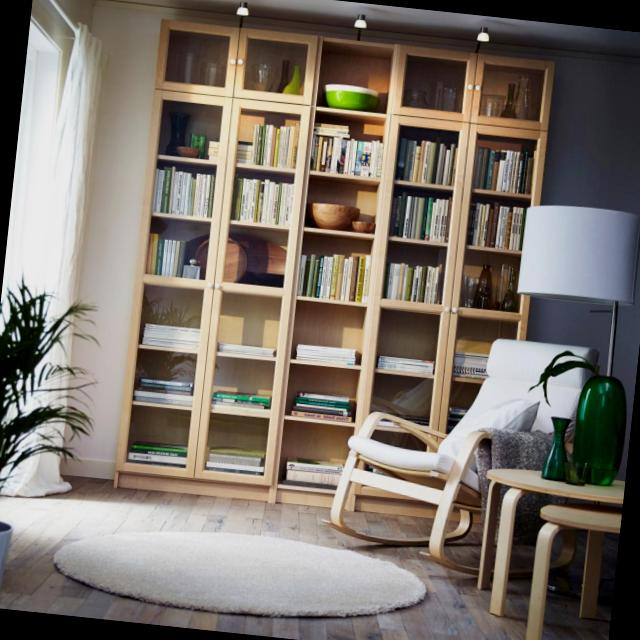obstacle: (315, 308, 640, 620), (0, 283, 74, 612)
